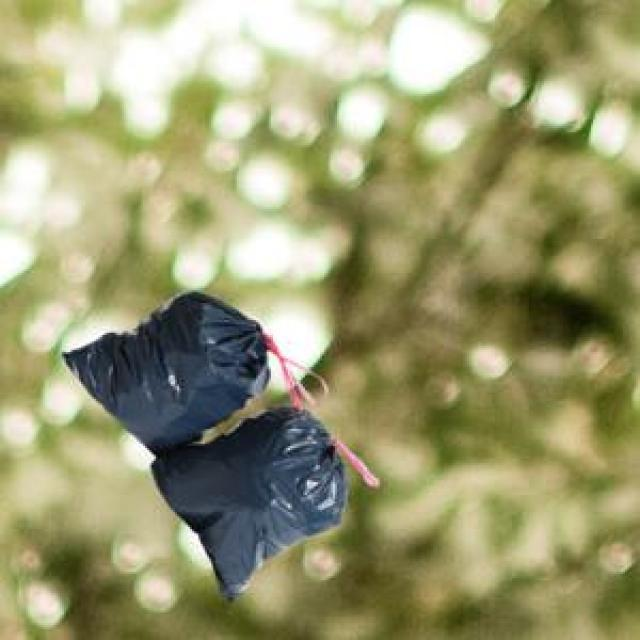Vinyl: (151, 418, 359, 600), (66, 285, 278, 434)
